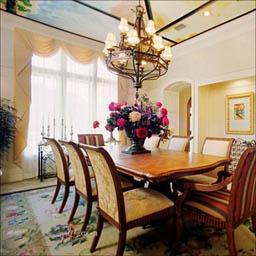Ventana: (28, 43, 104, 141)
